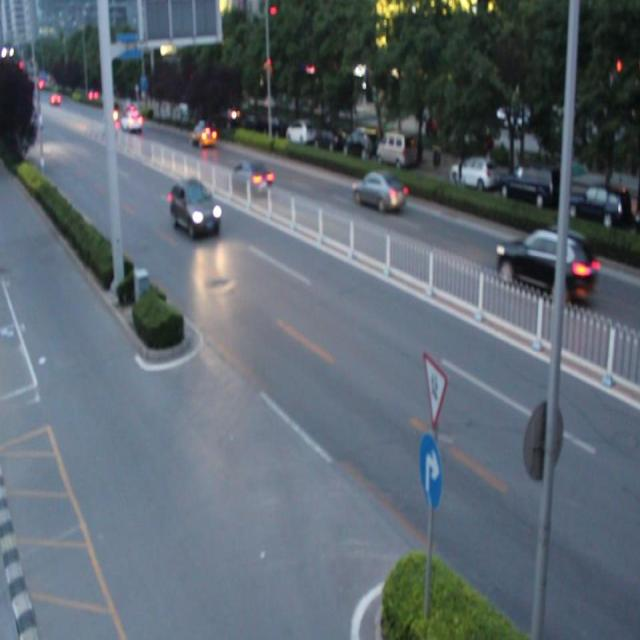car: (499, 228, 594, 301), (170, 180, 221, 232), (353, 170, 410, 215), (230, 162, 271, 195), (189, 121, 218, 150)
